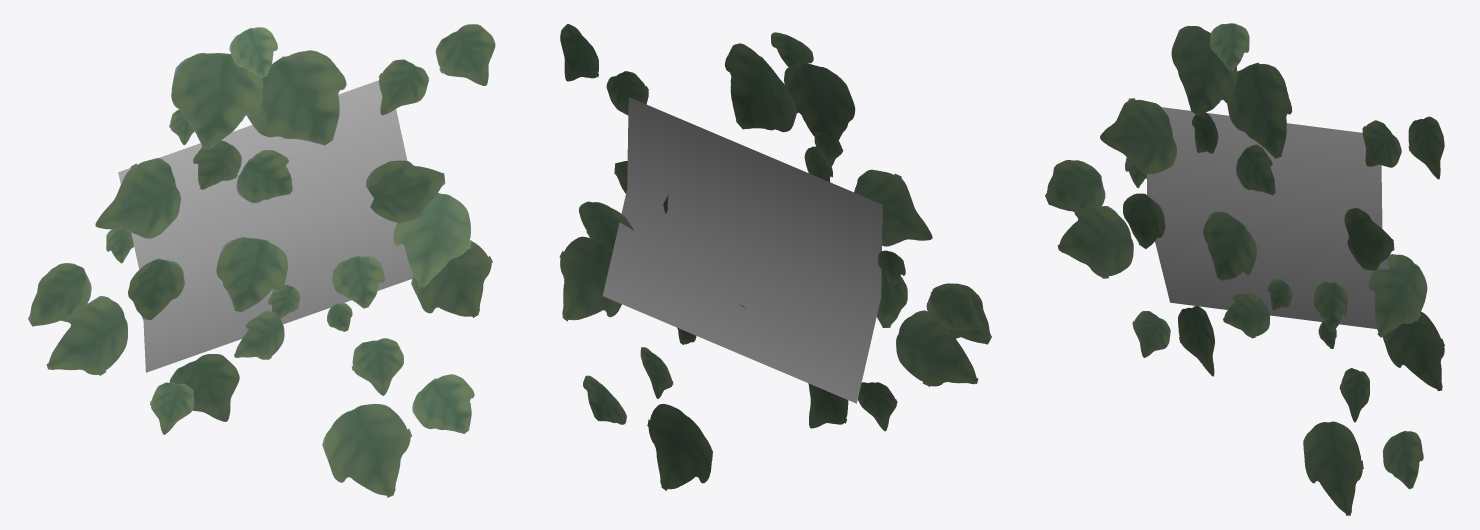
Rendered from IvyPatch.fbx.
3 views of the same model, side by side, from view 1: azimuth 30°, elevation 25°; view 2: azimuth 150°, elevation 25°; view 3: azimuth 330°, elevation 25° (orthographic). The views are drawn at different scales.
Visible parts, largest first — view 1: Ivy0.001; view 2: Ivy0.001; view 3: Ivy0.001.
Boxes of the visible parts, <box> form: Ivy0.001: <box>28,24,495,497</box>; Ivy0.001: <box>559,24,991,490</box>; Ivy0.001: <box>1045,23,1444,515</box>.
Size of the model in its own units: 513 by 520 by 72.46.
